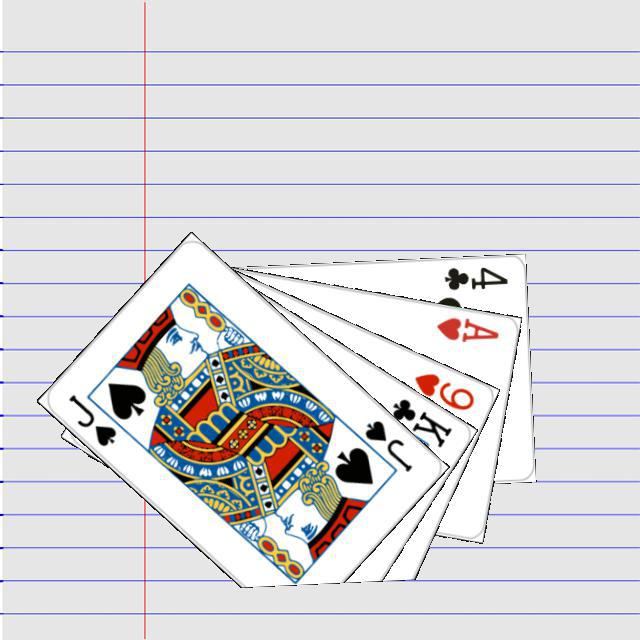4c: (439, 261, 509, 292)
9h: (409, 368, 476, 412)
Ah: (431, 312, 501, 344)
Js: (63, 389, 118, 449), (359, 415, 414, 474)
Kc: (374, 393, 454, 450)
